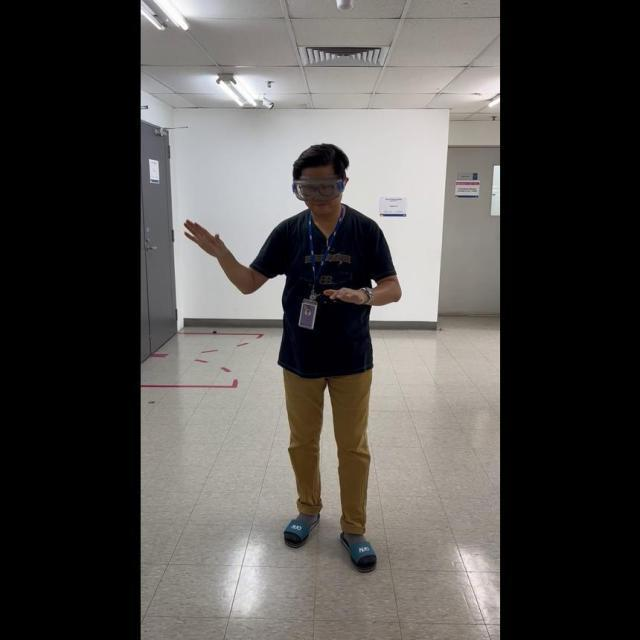bare_hand: (181, 214, 224, 260), (321, 280, 371, 305)
